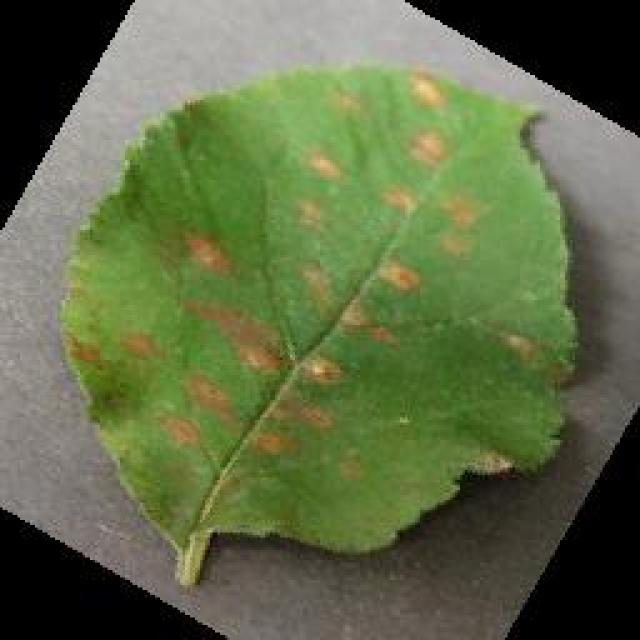apple rust disease: (55, 58, 580, 588)
